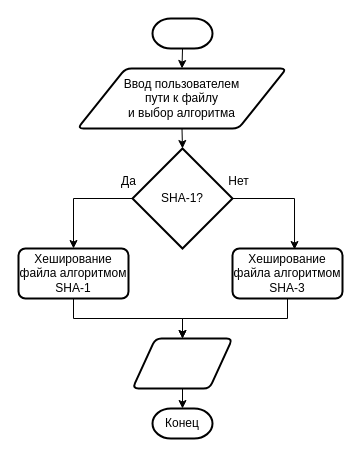
This 360x456 diagram has some shape labels left out. The centre of each missing label's shape, as x and y in pixels:
Вывод полученного хеша: the point at 182,363
Начало: the point at 182,33
